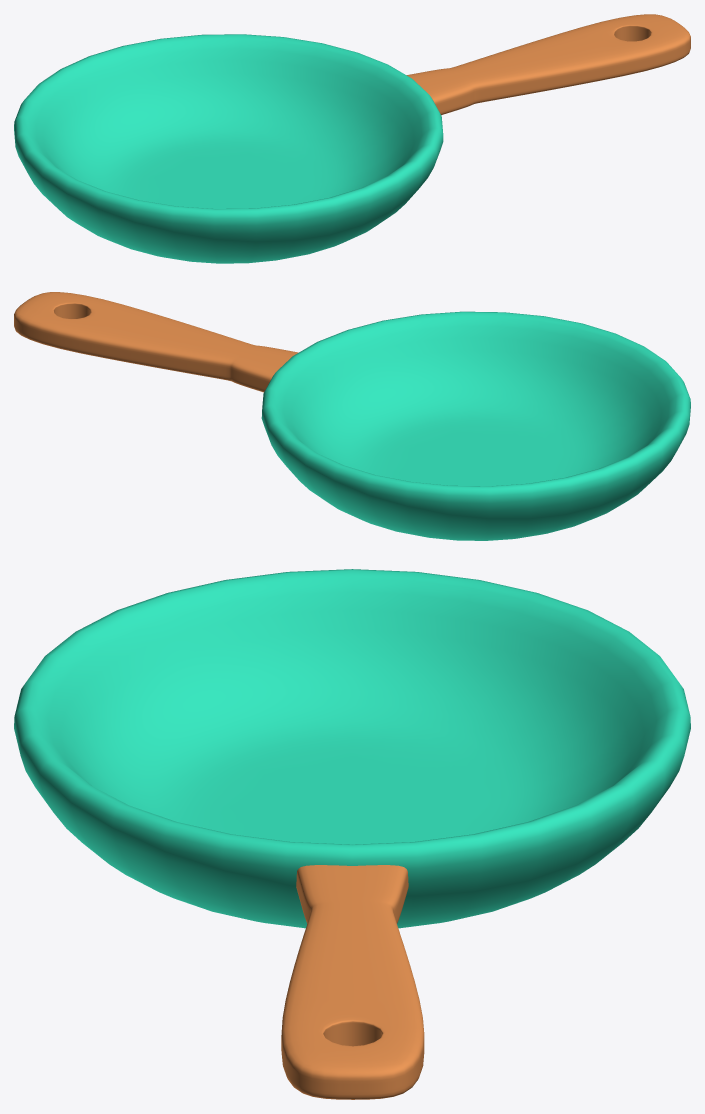
The model's file is pan.gltf.
The picture shows the model from 3 angles, top to bottom: view 1: azimuth 30°, elevation 25°; view 2: azimuth 150°, elevation 25°; view 3: azimuth 270°, elevation 25°; orthographic projection. The views are drawn at different scales.
Visible parts, largest first — view 1: Circle.002, Plane.001; view 2: Circle.002, Plane.001; view 3: Circle.002, Plane.001.
Boxes of the visible parts, box(x1,y1,x2,y2) form: Circle.002: box(14, 34, 443, 263); Plane.001: box(406, 14, 690, 114); Circle.002: box(261, 311, 690, 540); Plane.001: box(14, 292, 298, 392); Circle.002: box(14, 569, 690, 928); Plane.001: box(281, 865, 424, 1099).
Bounding box in the file's own units: 3.85 × 0.5123 × 2.25.
Materials: 1 (1 with a texture image).
